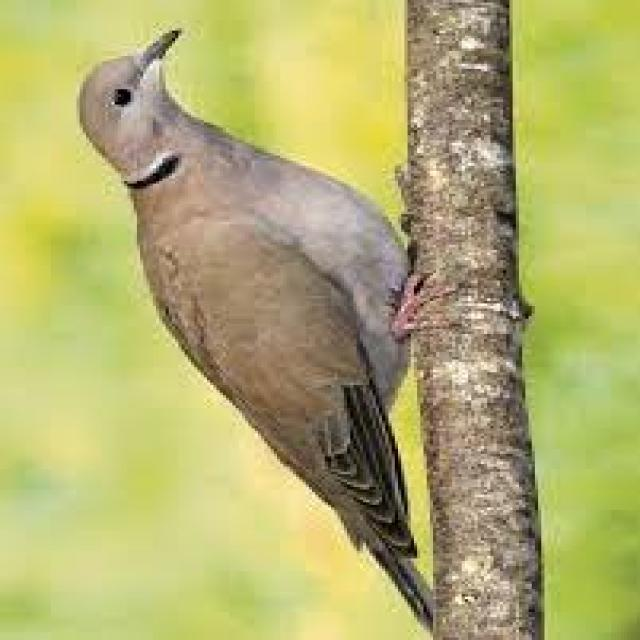pigeon: (50, 23, 457, 629)
